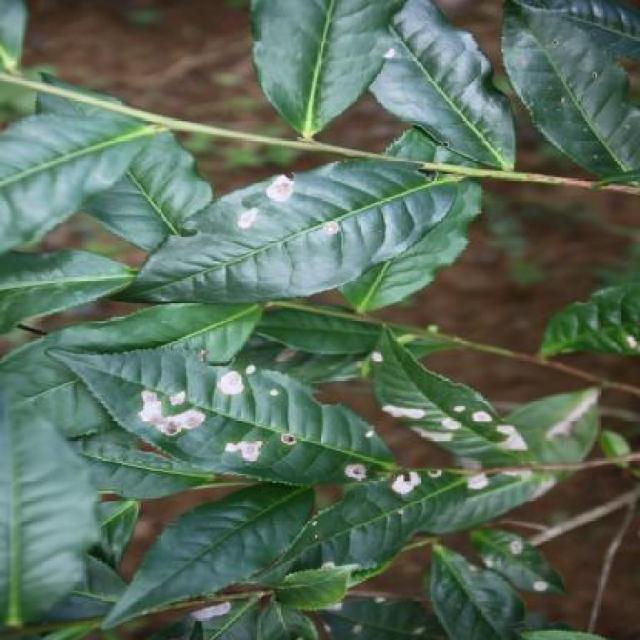Red Spider infested tea leaf: (45, 309, 408, 502), (362, 306, 538, 505), (171, 151, 443, 258), (258, 460, 530, 552)
